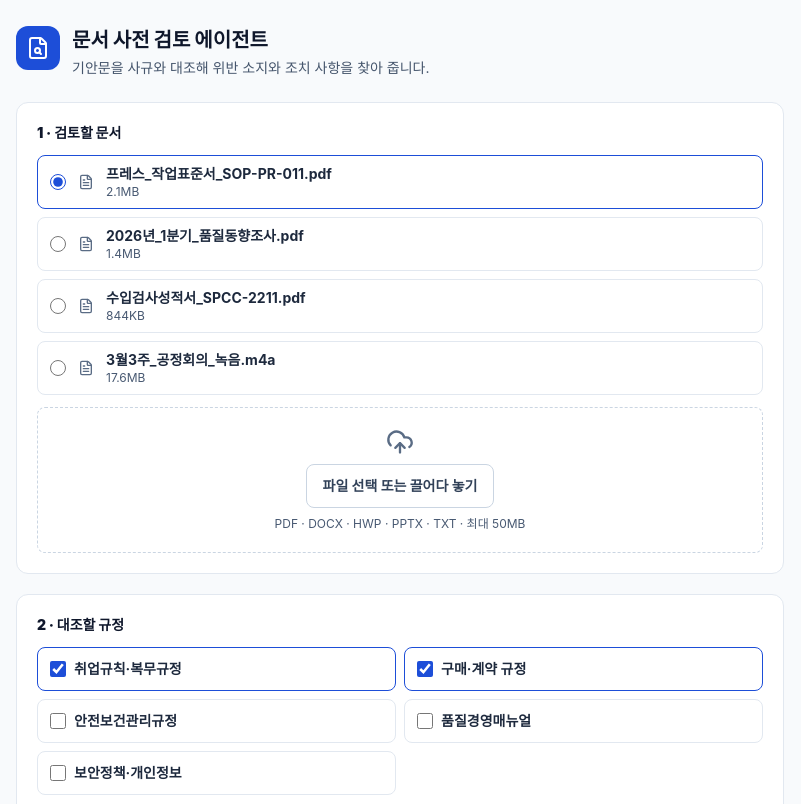
ReviewPage › 규정을 모두 해제하면 실행 버튼이 비활성이다
Click the checkbox labelled "취업규칙·복무규정": (58, 669) [50,661,66,677]
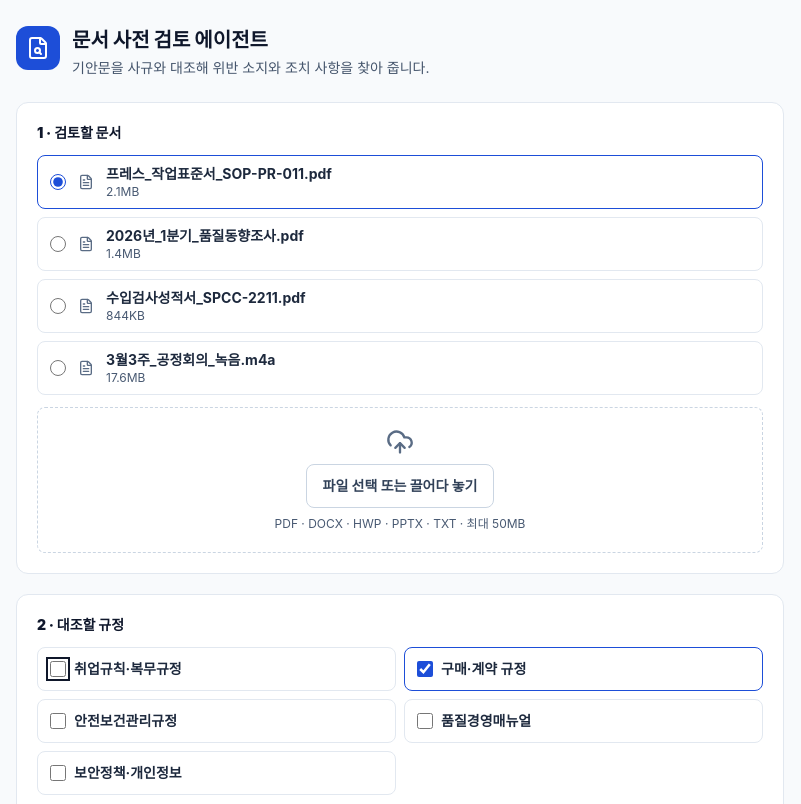
Click the checkbox labelled "구매·계약 규정": (425, 669) [417,661,433,677]
(page scrolled)
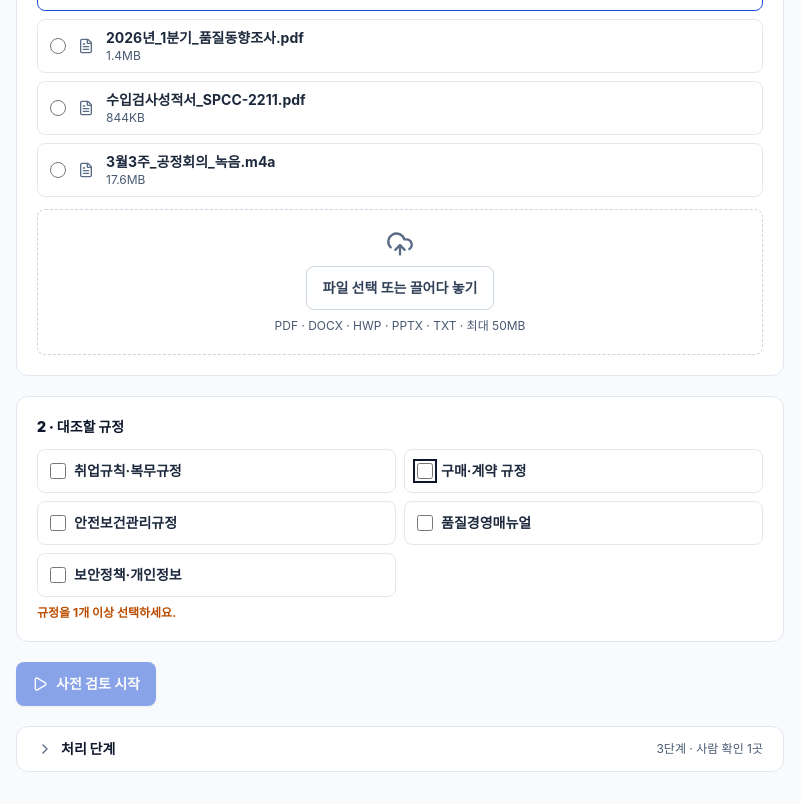
Result: the button "사전 검토 시작" is disabled at [16,662,156,706]
Result: the text "규정을 1개 이상 선택하세요." is shown at [37,605,176,620]
